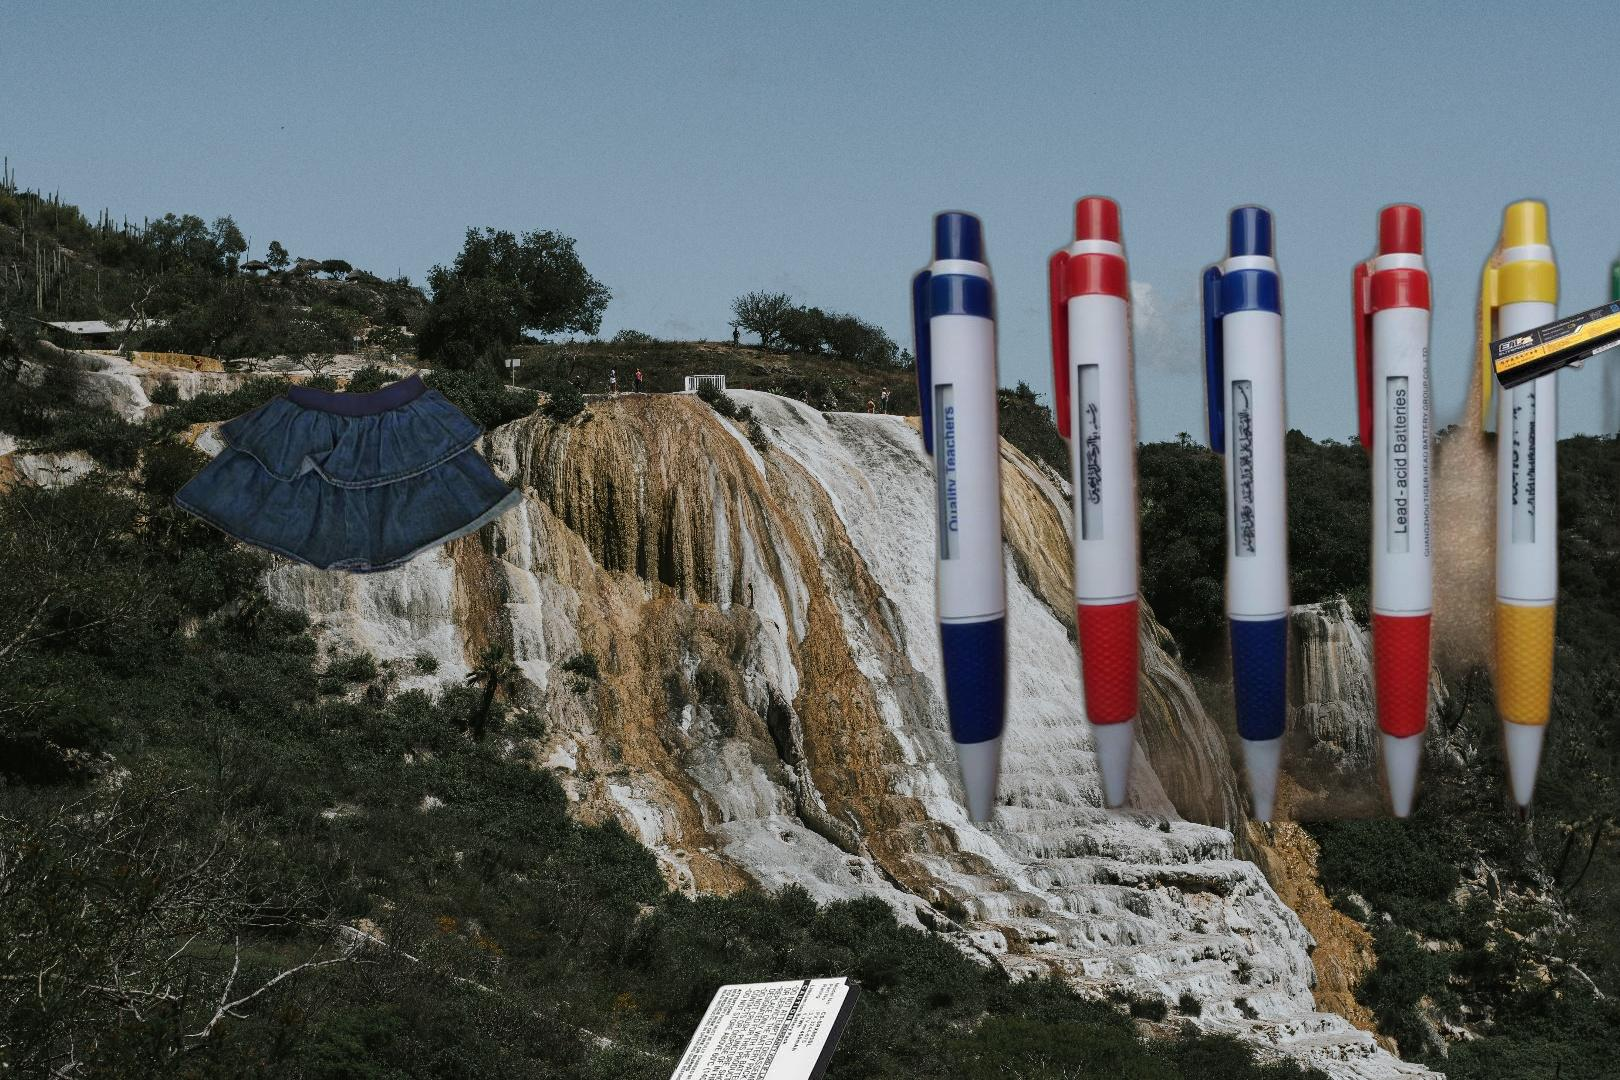battery: (1358, 264, 1620, 394), (640, 973, 864, 1080)
clothes: (169, 370, 527, 579)
penholder: (903, 190, 1620, 822)
